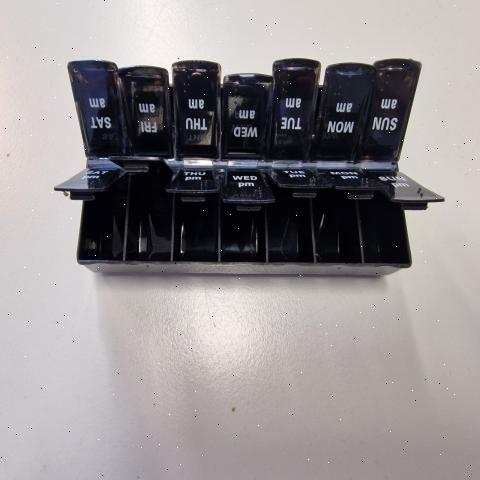Open: (104, 150, 167, 261), (54, 174, 125, 263), (265, 173, 328, 263), (314, 187, 371, 262), (363, 188, 408, 265), (168, 190, 216, 260), (219, 200, 267, 261), (315, 63, 328, 142), (165, 70, 176, 145)
